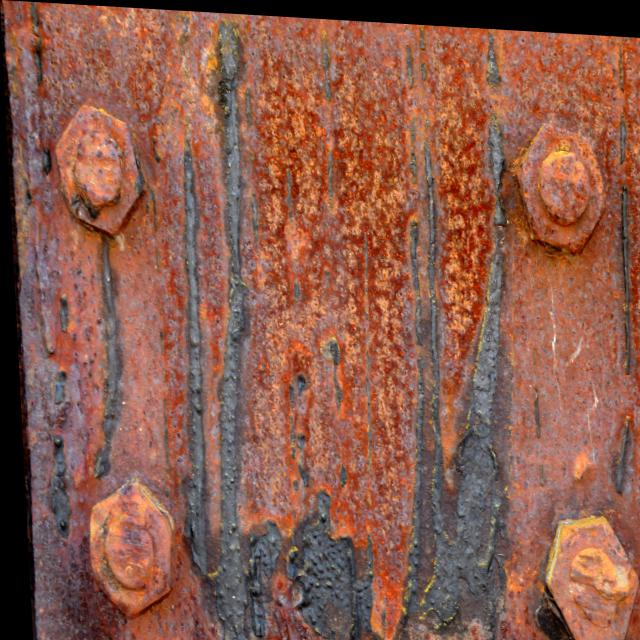Rusty bolt: (51, 98, 146, 240), (80, 476, 172, 620), (538, 507, 636, 640), (515, 111, 610, 247)
